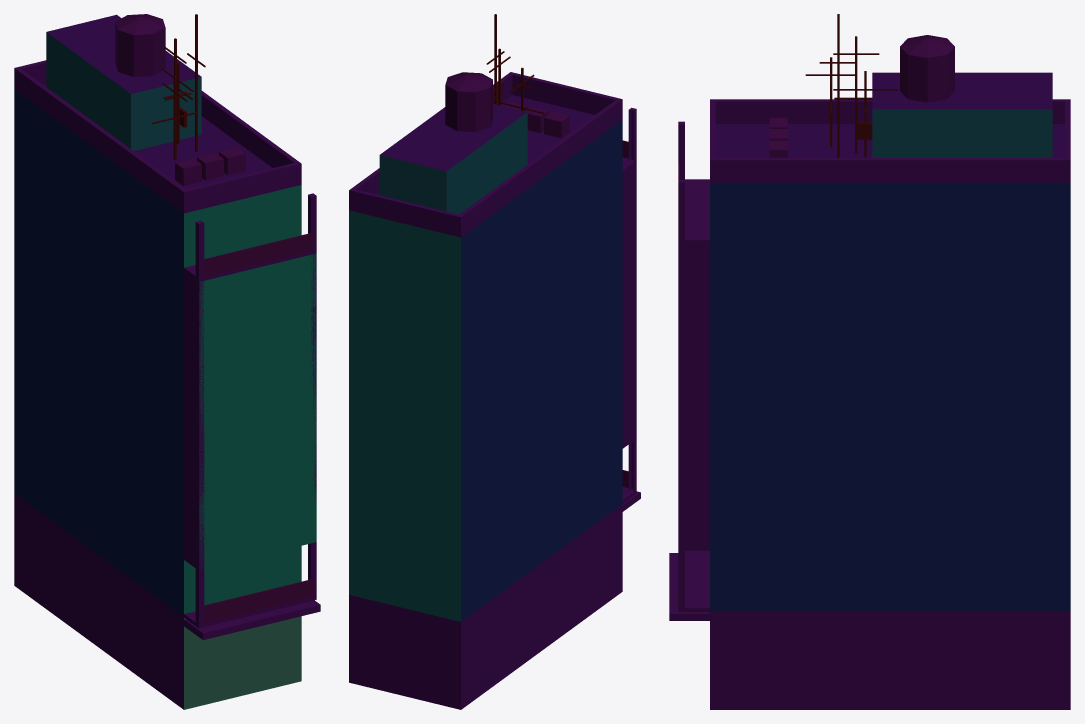
File: walkup_b.glb
3 renders of one model, left to right at view 1: azimuth 30°, elevation 25°; view 2: azimuth 150°, elevation 25°; view 3: azimuth 270°, elevation 25°, orthographic. The views are drawn at different scales.
Visible parts, largest first — view 1: walkup_b; view 2: walkup_b; view 3: walkup_b.
Boxes of the visible parts, x1=… form: walkup_b: x1=14, y1=14, x2=320, y2=709; walkup_b: x1=349, y1=14, x2=640, y2=709; walkup_b: x1=669, y1=14, x2=1070, y2=709.
Size of the model in its own units: 6.4 by 32.9 by 17.8.
